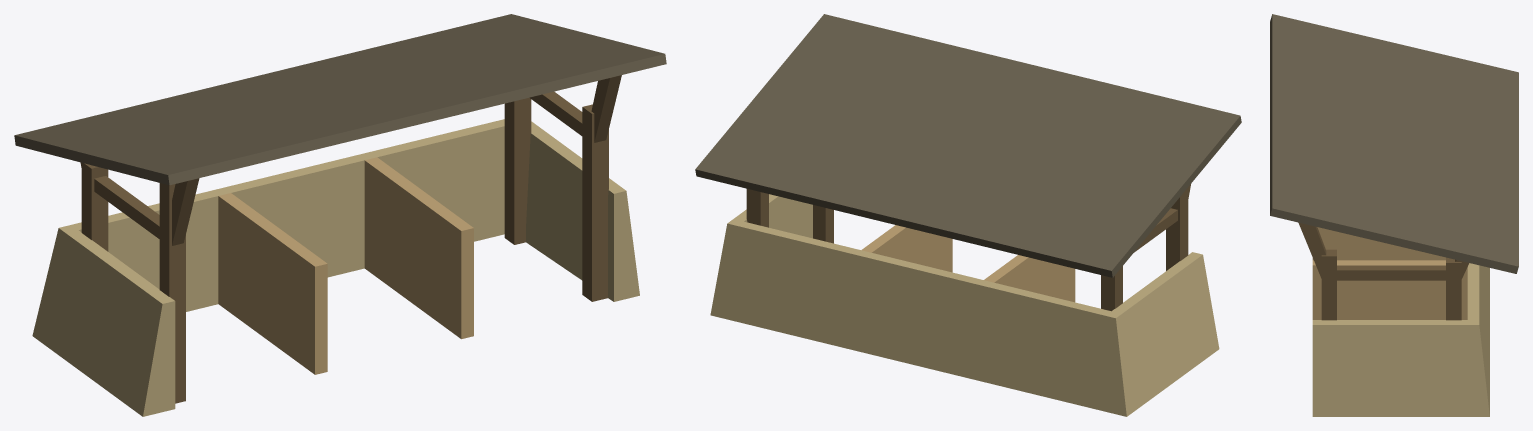
File: stable.fbx
3 renders of one model, left to right at view 1: azimuth 30°, elevation 25°; view 2: azimuth 150°, elevation 25°; view 3: azimuth 270°, elevation 25°, orthographic. The views are drawn at different scales.
Visible parts, largest first — view 1: Object_2; view 2: Object_2; view 3: Object_2.
Boxes of the visible parts, x1=… form: Object_2: x1=14, y1=14, x2=666, y2=416; Object_2: x1=695, y1=14, x2=1241, y2=416; Object_2: x1=1270, y1=14, x2=1518, y2=416.
Size of the model in its own units: 550 by 275 by 298.
Materials: 1 (1 with a texture image).
